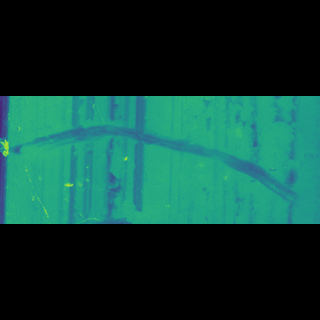Loch: (0, 138, 315, 182)
